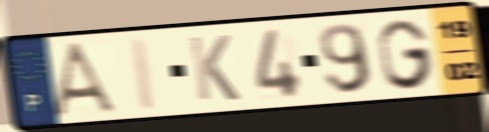4: (252, 25, 304, 101)
9: (316, 21, 374, 95)
A: (48, 39, 125, 118)
G: (375, 17, 437, 92)
I: (127, 34, 160, 113)
K: (186, 33, 243, 104)
